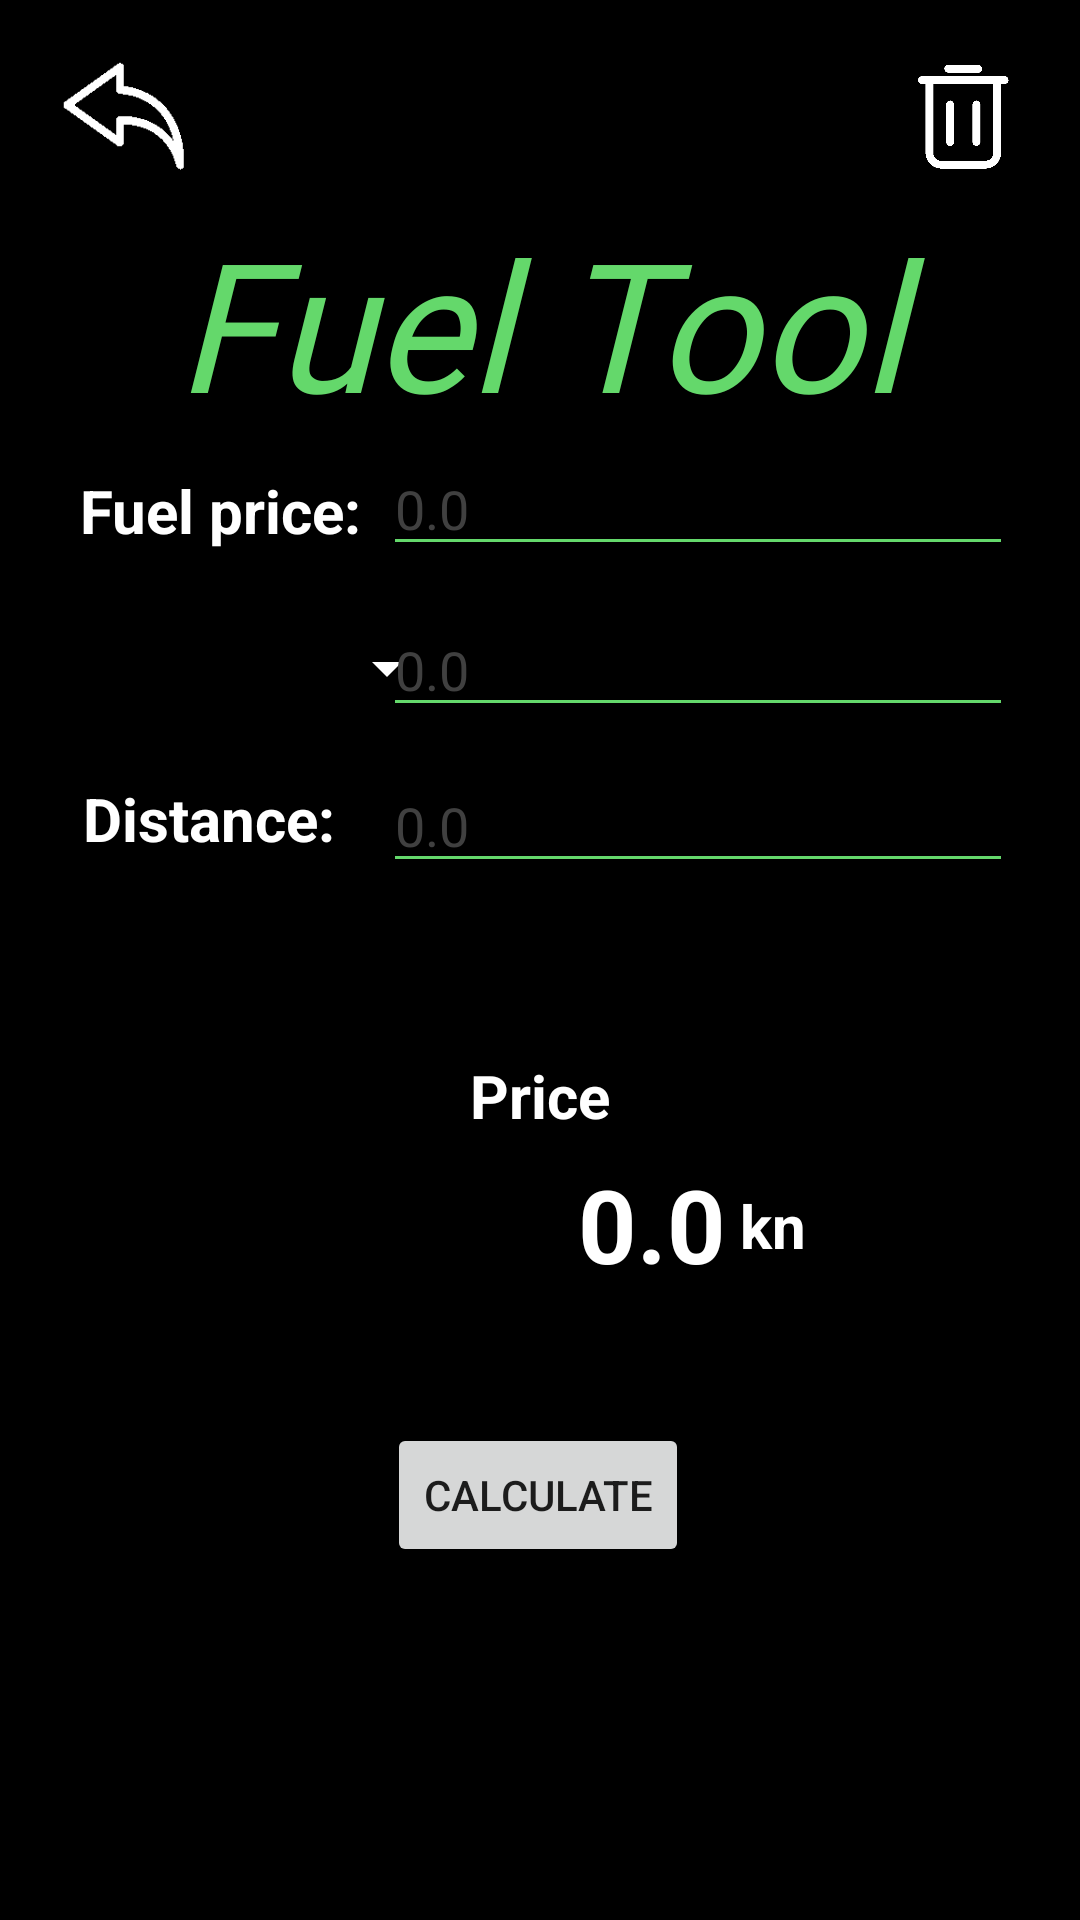

Named icons in this screenshot (1080x1920) and their bounding boxes, (x1=x1, y1=y1, x2=x2, y2=y2):
backicon: (x1=63, y1=62, x2=184, y2=170)
Delete: (x1=918, y1=65, x2=1009, y2=169)
